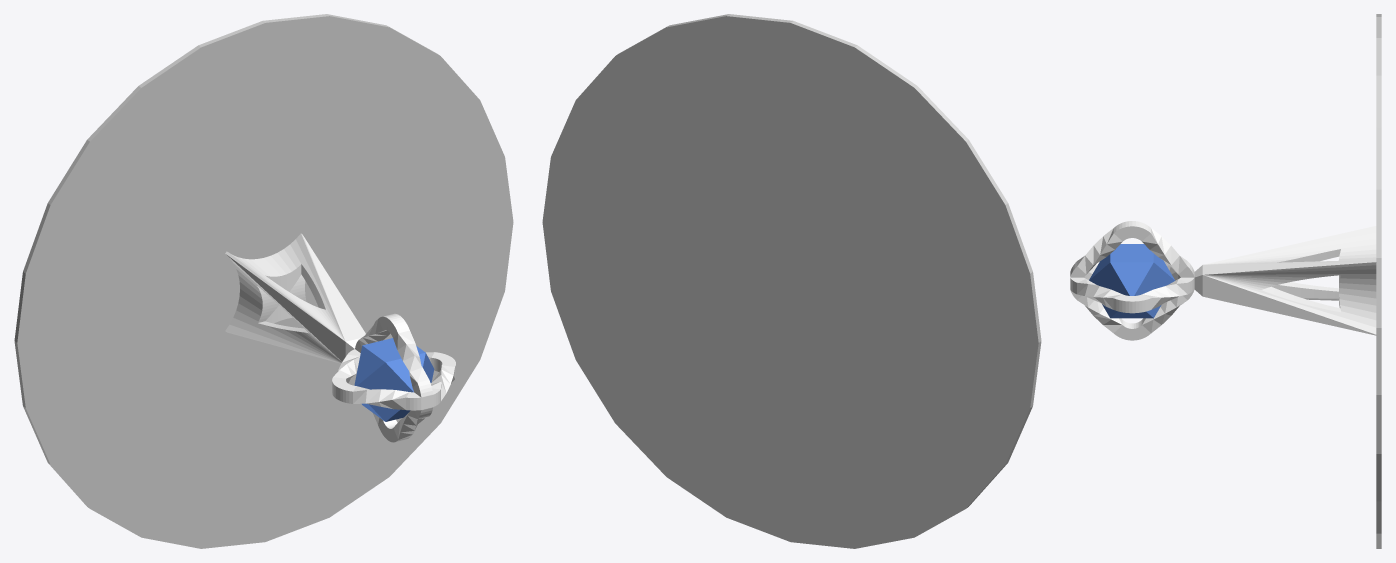
3 renders of one model, left to right at view 1: azimuth 30°, elevation 25°; view 2: azimuth 150°, elevation 25°; view 3: azimuth 270°, elevation 25°, orthographic. The views are drawn at different scales.
Parts seen in each view (by area): view 1: d challenge trophy ii; view 2: d challenge trophy ii; view 3: d challenge trophy ii.
Part boxes in pixels (<box>): d challenge trophy ii: <box>14,14,513,548</box>; d challenge trophy ii: <box>542,14,1041,548</box>; d challenge trophy ii: <box>1070,14,1381,548</box>.
Bounding box in the file's own units: 39.37 × 39.37 × 22.85.
